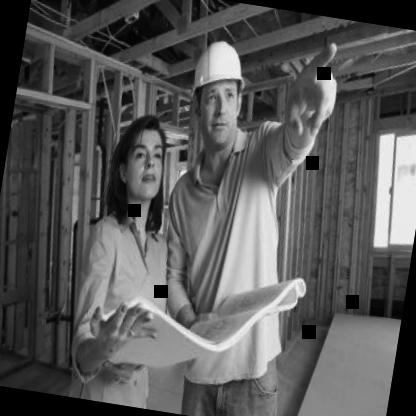helmet: (173, 34, 255, 172)
